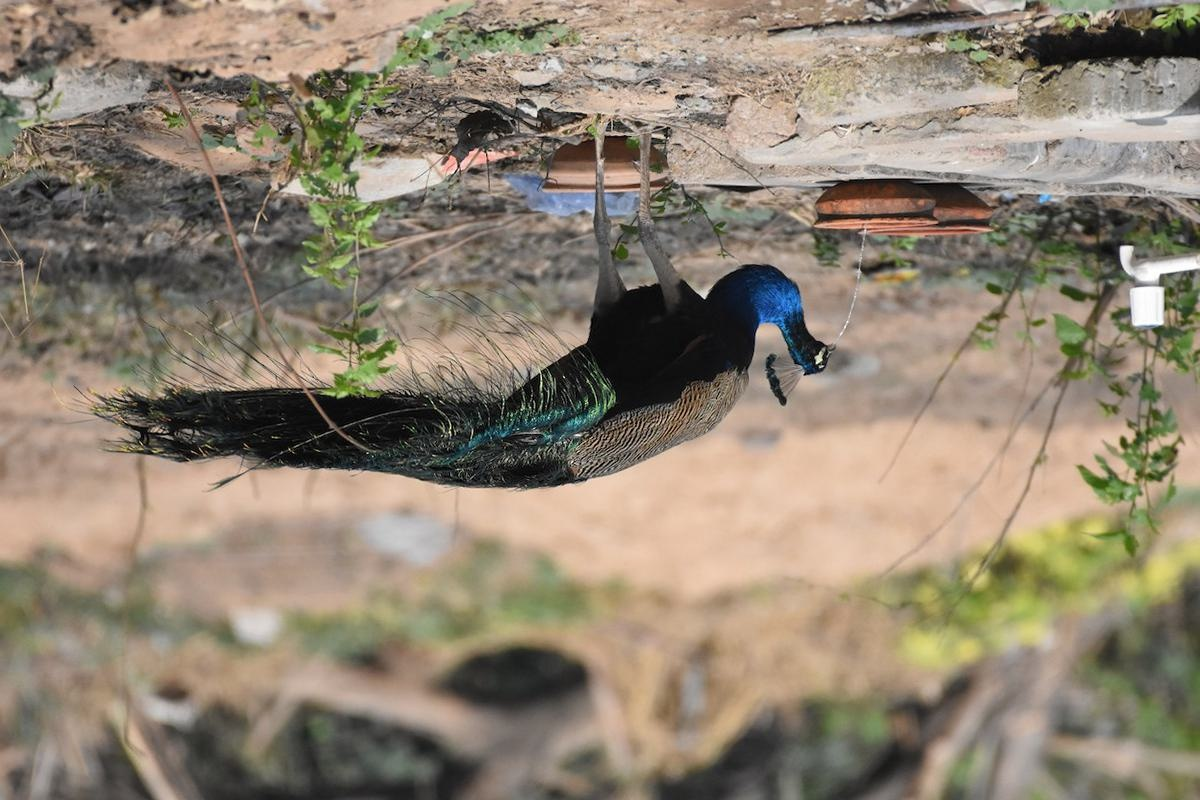peacock: (124, 187, 871, 535)
